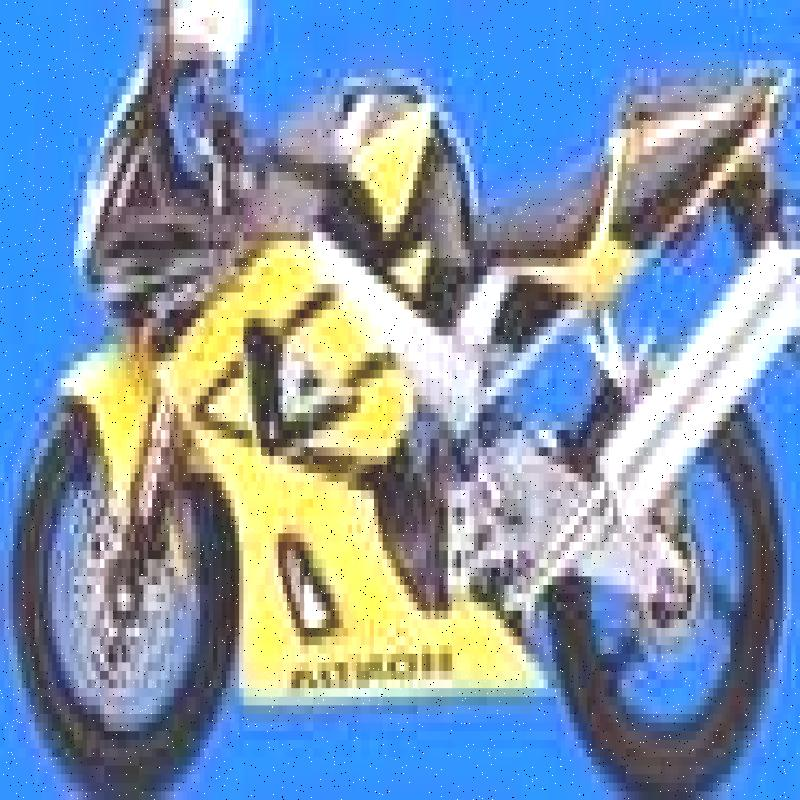bike: (0, 8, 800, 800)
